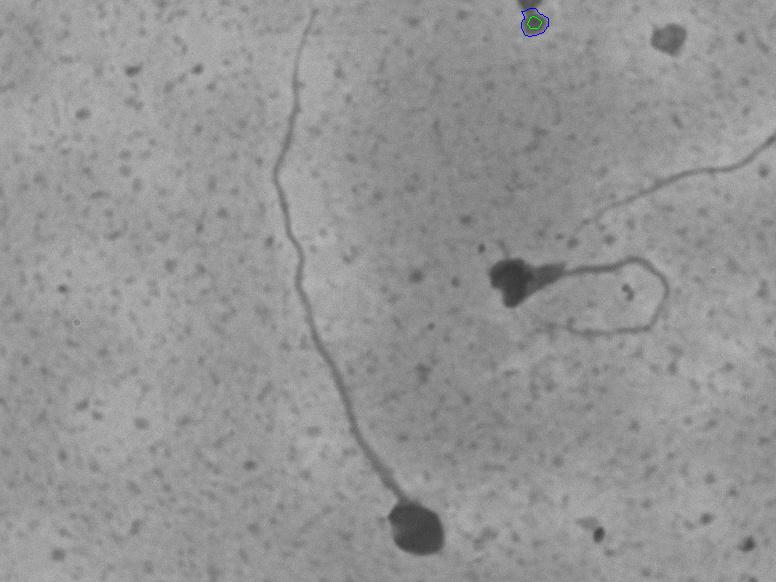Abnormal: (248, 7, 457, 558), (471, 240, 698, 351)
